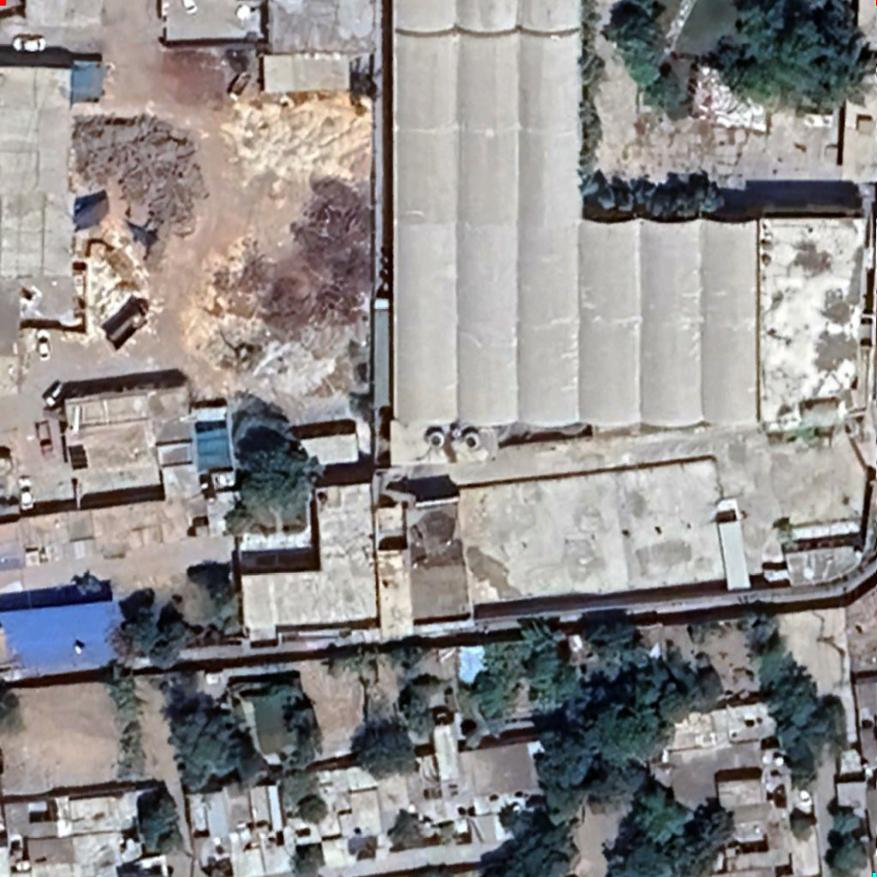Solarpanel: (65, 439, 94, 473)
